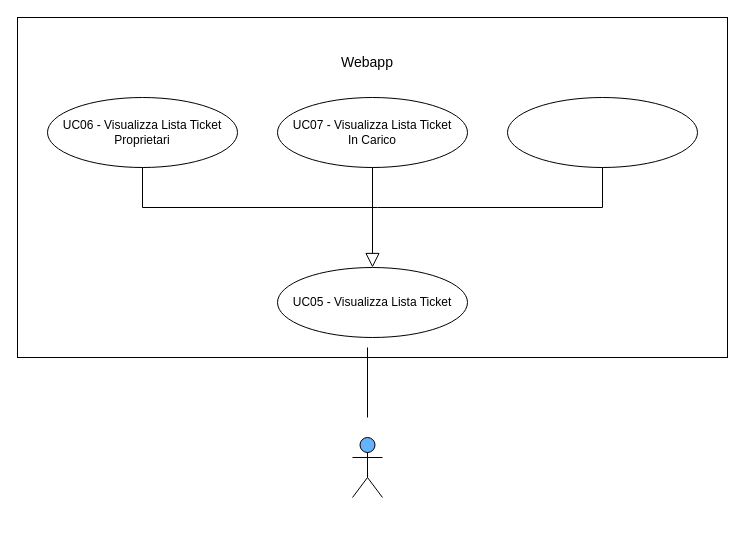
The diagram is 745 pixels wide and 539 high, and some of its shapes have lost their labels. Here are the shapes that lost their labels. From the top down, the centre of each, then its label:
the point at 602,132: UC08 - Visualizza Ultimi Dieci Ticket
the point at 367,467: Utente Autenticato
